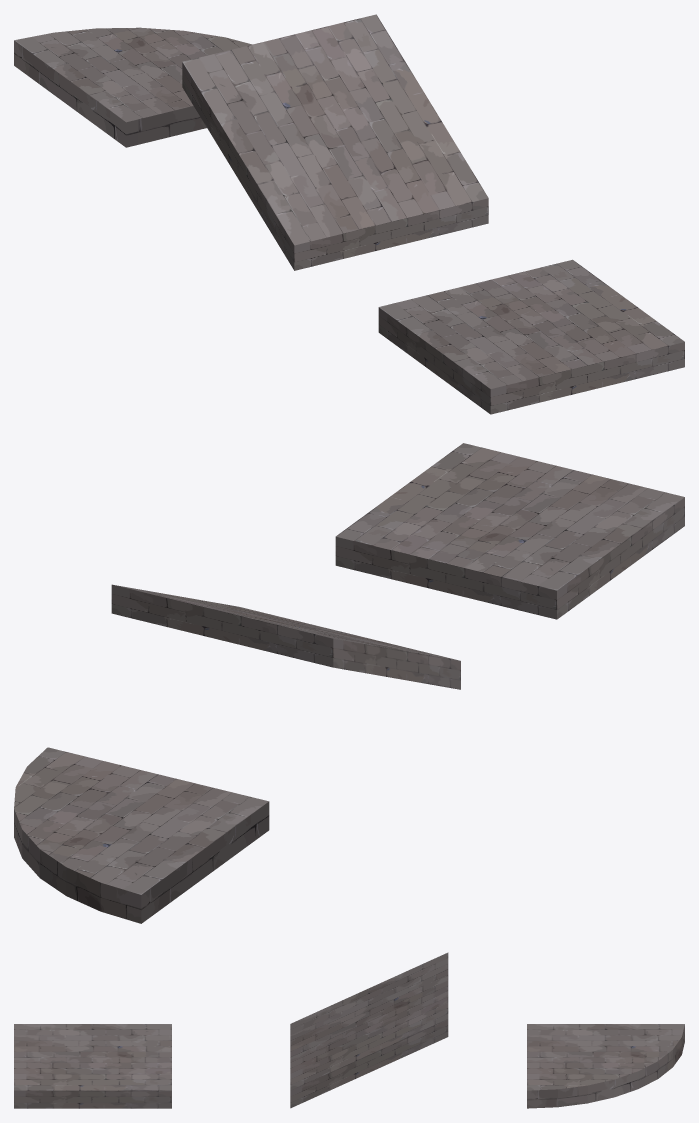
File: Tiles_ground_basic2.glb
3 views of the same model, one above another, from view 1: azimuth 30°, elevation 25°; view 2: azimuth 150°, elevation 25°; view 3: azimuth 270°, elevation 25° (orthographic). The views are drawn at different scales.
Visible parts, largest first — view 1: Cube.001, Cube.002, Cylinder; view 2: Cube.002, Cylinder, Cube.001; view 3: Cube.001, Cube.002, Cylinder.
Boxes of the visible parts, x1,y1,x2,y2 form: Cube.001: (182, 14, 488, 270); Cube.002: (378, 259, 684, 414); Cylinder: (14, 27, 252, 147); Cube.002: (335, 443, 684, 619); Cylinder: (14, 747, 269, 923); Cube.001: (111, 584, 460, 689); Cube.001: (290, 952, 448, 1108); Cube.002: (14, 1024, 171, 1108); Cylinder: (527, 1024, 684, 1108).
Size of the model in its own units: 4 by 2.5 by 17.
Materials: 2 (2 with a texture image).
